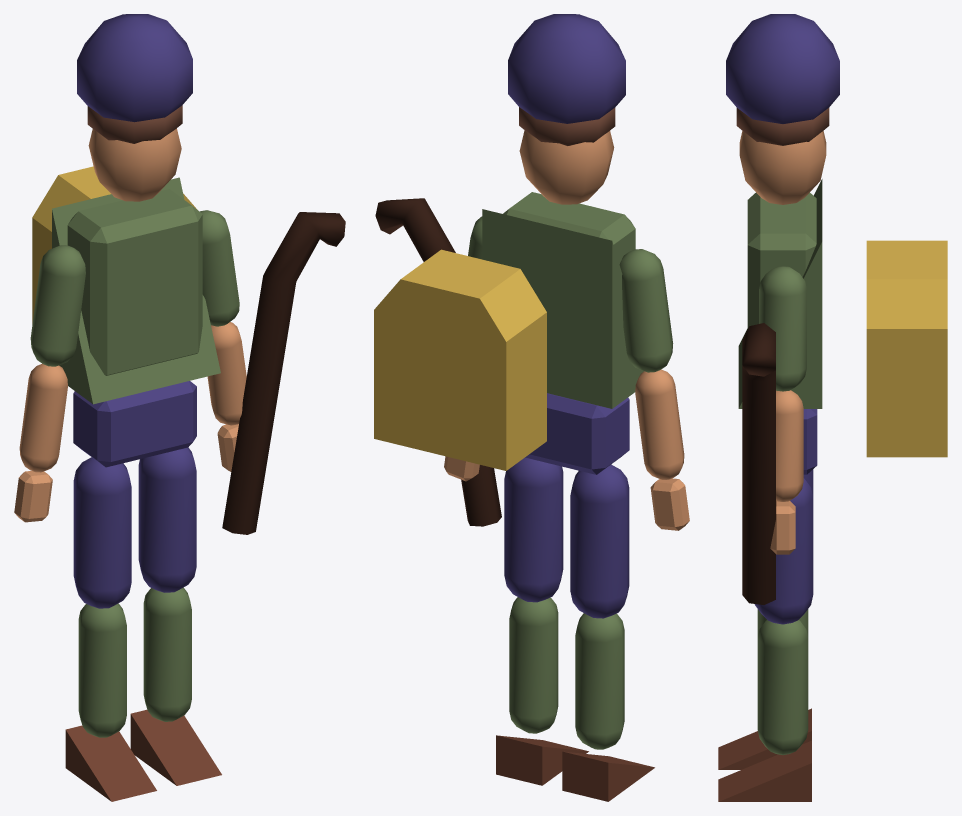
File: adventurer.rustic.glb
The picture shows the model from 3 angles, left to right: view 1: azimuth 30°, elevation 25°; view 2: azimuth 150°, elevation 25°; view 3: azimuth 270°, elevation 25°; orthographic projection.
Parts seen in each view (by area): view 1: torso, accessory.main-hand, accessory.head, thigh.left, pelvis, thigh.right, tunic, shin.left, shin.right, upper-arm.left, head, foot.left (+8 smaller); view 2: accessory.back, tunic, accessory.head, thigh.left, thigh.right, shin.left, shin.right, pelvis, upper-arm.left, head, accessory.main-hand, forearm.left (+6 smaller); view 3: accessory.back, accessory.head, accessory.main-hand, shin.right, torso, head, upper-arm.right, thigh.right, foot.right, tunic, forearm.right, hair (+3 smaller).
Part boxes in pixels (x1=…): torso: x1=67, y1=189, x2=202, y2=375; accessory.main-hand: x1=222, y1=212, x2=345, y2=534; accessory.head: x1=77, y1=14, x2=192, y2=122; thigh.left: x1=73, y1=457, x2=131, y2=608; pelvis: x1=73, y1=381, x2=196, y2=467; thigh.right: x1=138, y1=447, x2=196, y2=592; tunic: x1=52, y1=177, x2=220, y2=404; shin.left: x1=78, y1=603, x2=126, y2=737; shin.right: x1=143, y1=587, x2=191, y2=721; upper-arm.left: x1=30, y1=245, x2=85, y2=366; head: x1=88, y1=128, x2=181, y2=201; foot.left: x1=65, y1=725, x2=156, y2=801; accessory.back: x1=374, y1=249, x2=546, y2=470; tunic: x1=482, y1=209, x2=643, y2=408; accessory.head: x1=508, y1=14, x2=625, y2=123; thigh.left: x1=570, y1=464, x2=629, y2=618; thigh.right: x1=504, y1=457, x2=563, y2=602; shin.left: x1=575, y1=613, x2=624, y2=749; shin.right: x1=509, y1=597, x2=558, y2=733; pelvis: x1=525, y1=393, x2=629, y2=474; upper-arm.left: x1=619, y1=249, x2=673, y2=372; head: x1=519, y1=130, x2=614, y2=204; accessory.main-hand: x1=375, y1=198, x2=501, y2=526; forearm.left: x1=635, y1=369, x2=684, y2=479; accessory.back: x1=866, y1=240, x2=947, y2=457; accessory.head: x1=726, y1=14, x2=839, y2=123; accessory.main-hand: x1=742, y1=323, x2=775, y2=604; shin.right: x1=757, y1=620, x2=808, y2=754; torso: x1=747, y1=192, x2=816, y2=328; head: x1=739, y1=131, x2=826, y2=204; upper-arm.right: x1=759, y1=266, x2=806, y2=391; thigh.right: x1=754, y1=478, x2=813, y2=624; foot.right: x1=718, y1=740, x2=811, y2=801; tunic: x1=738, y1=179, x2=822, y2=408; forearm.right: x1=776, y1=390, x2=803, y2=501; hair: x1=736, y1=108, x2=829, y2=145.
Bounding box in the file's own units: 1.44 × 3.29 × 0.905.
